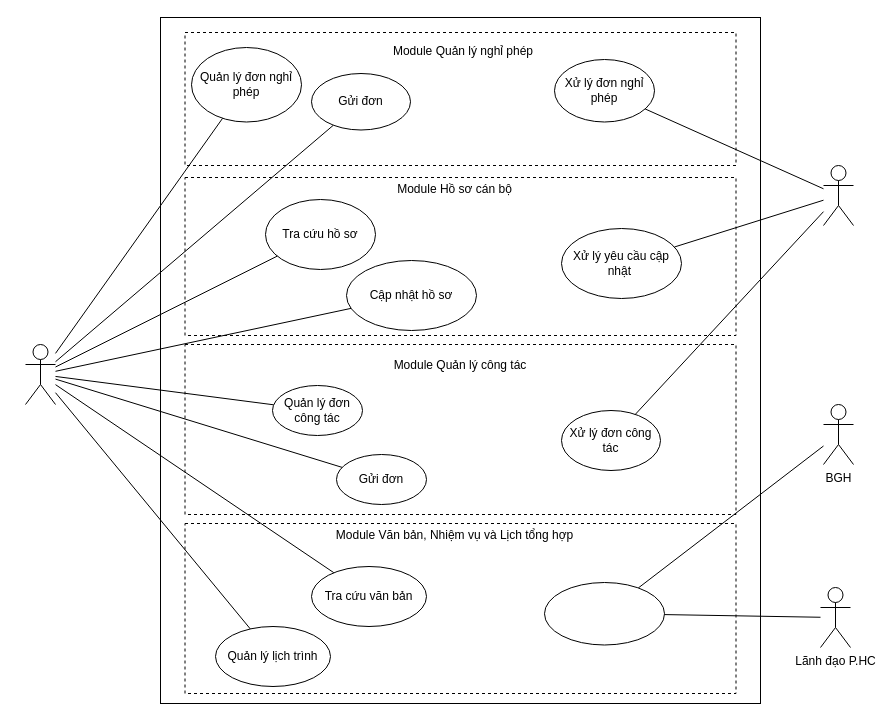
This 893x721 diagram has some shape labels left out. Each missing label, with the centre of its shape:
Nhân sự: (x=40, y=374)
TCNS: (x=838, y=195)
Xử lý văn bản: (x=604, y=613)
